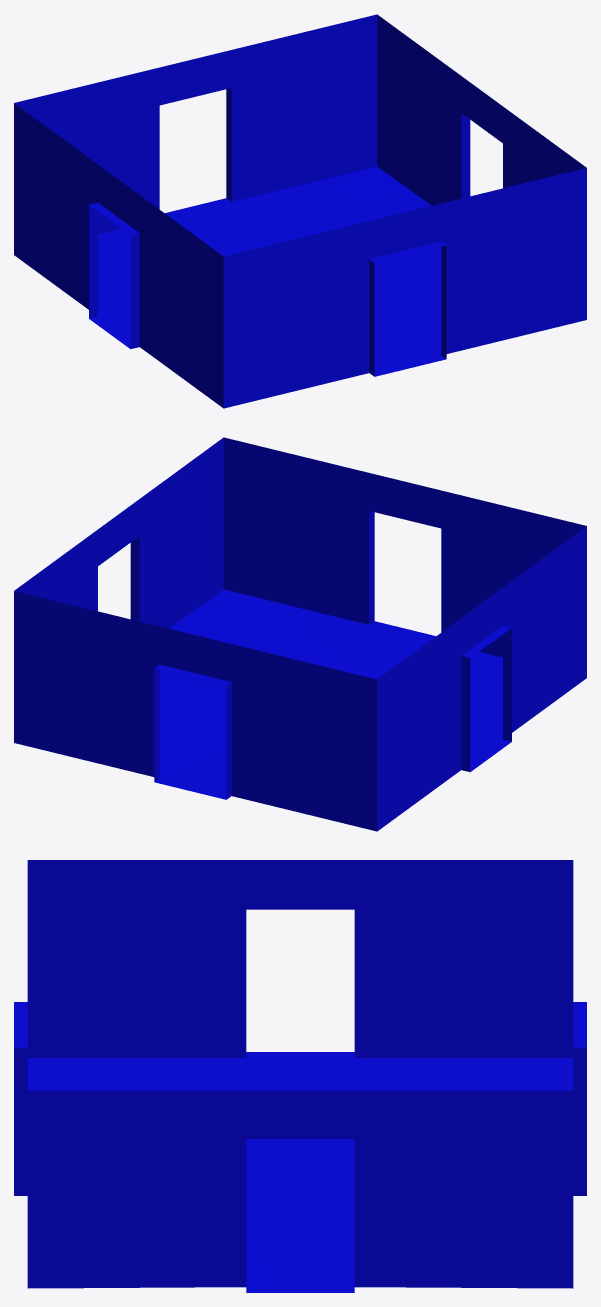
The model's file is western rooms-noroof-yup-mzfor-applied.fbx.
The picture shows the model from 3 angles, top to bottom: view 1: azimuth 30°, elevation 25°; view 2: azimuth 150°, elevation 25°; view 3: azimuth 270°, elevation 25°; orthographic projection. The views are drawn at different scales.
Visible parts, largest first — view 1: Rooms-4Door; view 2: Rooms-4Door; view 3: Rooms-4Door.
Boxes of the visible parts, box(x1,y1,x2,y2) form: Rooms-4Door: box(14, 14, 586, 408); Rooms-4Door: box(14, 437, 586, 831); Rooms-4Door: box(14, 860, 586, 1292).
Size of the model in its own units: 640 by 244 by 640.
